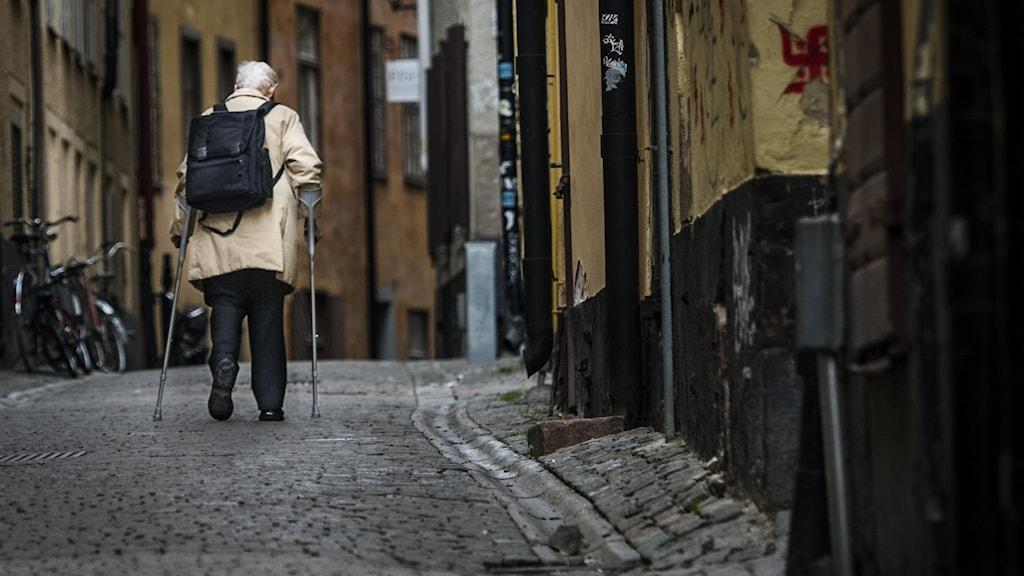crutches: (144, 40, 332, 432)
